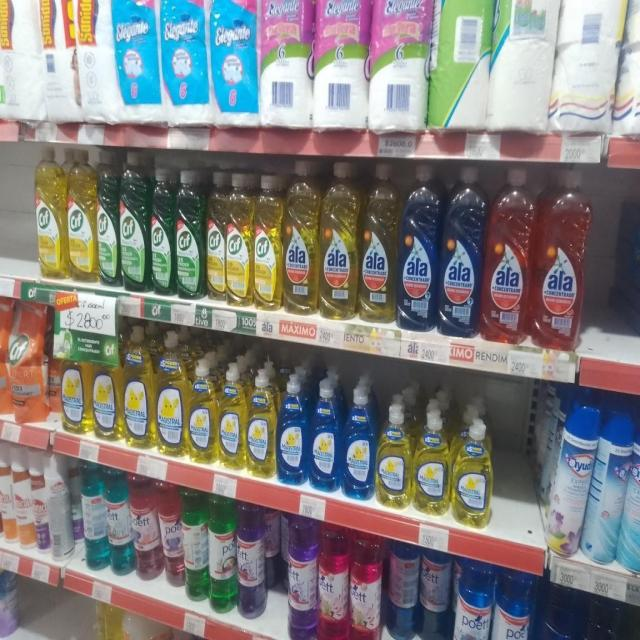ala_conc_amarillo: (320, 158, 358, 320), (359, 161, 396, 324), (284, 158, 318, 316)
ala_conc_azul: (439, 163, 482, 339), (398, 162, 438, 332)
ala_conc_rojo: (535, 168, 590, 350), (483, 166, 533, 344)
cif_conc_bot_amarilla: (35, 145, 66, 281), (67, 146, 96, 283), (254, 171, 282, 311), (227, 172, 252, 308), (206, 170, 226, 304)
cif_conc_botella_verde: (120, 151, 148, 293), (175, 168, 204, 300), (150, 164, 174, 297), (97, 148, 119, 288)
cif_conc_sachet_amarillo: (0, 0, 10, 50)
magistral_con_amarillo: (453, 417, 493, 528), (156, 329, 187, 458), (414, 405, 450, 516), (124, 325, 154, 450), (377, 402, 412, 509), (92, 327, 122, 441), (60, 323, 90, 436), (188, 357, 218, 465), (247, 368, 276, 479), (218, 362, 246, 471)
magistral_con_azul: (342, 385, 374, 500), (310, 378, 341, 492), (278, 373, 308, 486), (535, 585, 581, 640), (579, 596, 624, 640)
